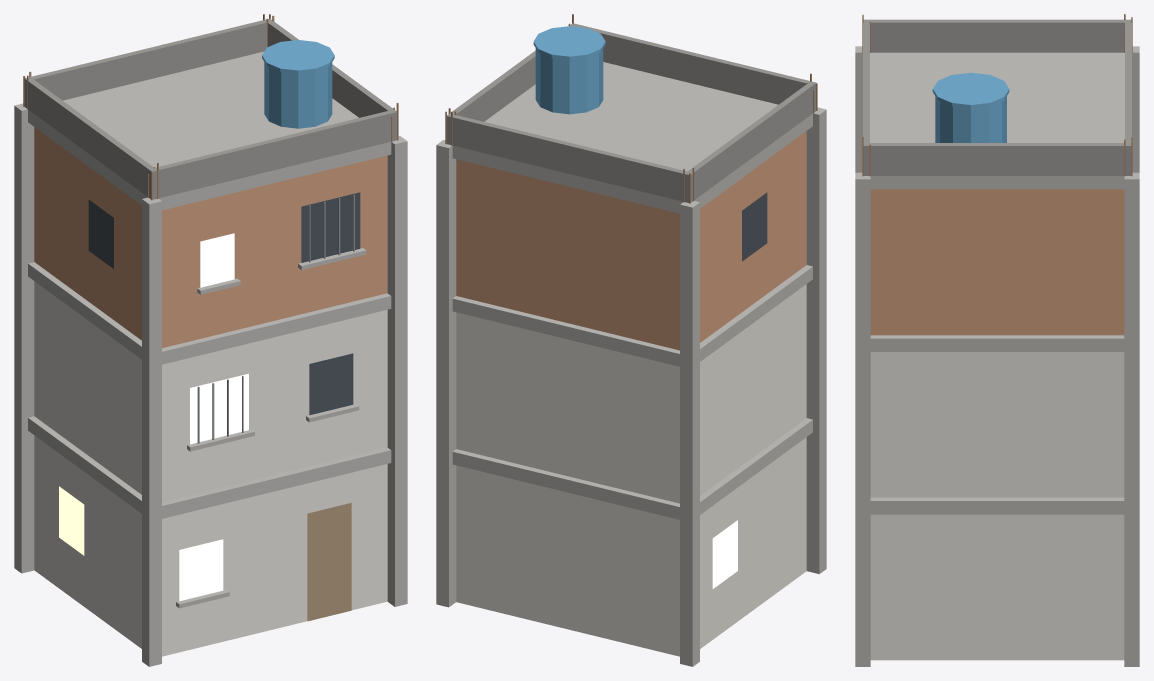
File: fv_house_b.glb
The picture shows the model from 3 angles, left to right: view 1: azimuth 30°, elevation 25°; view 2: azimuth 150°, elevation 25°; view 3: azimuth 270°, elevation 25°; orthographic projection. The views are drawn at different scales.
Parts seen in each view (by area): view 1: fv_house_b; view 2: fv_house_b; view 3: fv_house_b.
Part boxes in pixels (x1,y1,x2,y2): fv_house_b: [14, 14, 407, 666]; fv_house_b: [436, 14, 826, 666]; fv_house_b: [855, 14, 1139, 666].
Size of the model in its own units: 5.26 by 10.15 by 4.76.
